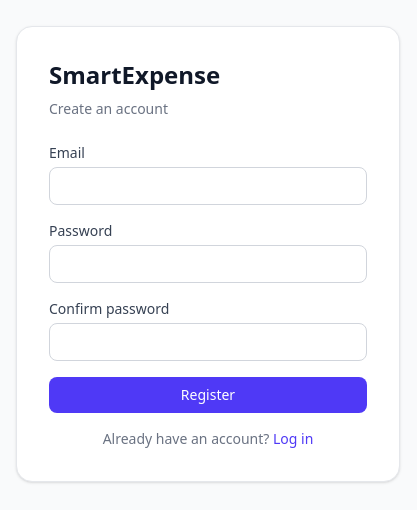
it: RegisterPage › shows a validation error when passwords do not match
The width and height of the screenshot is (417, 510).
Type "user@example.com" into the field labelled "Email" at (208,186), box 49,167 -> 367,205
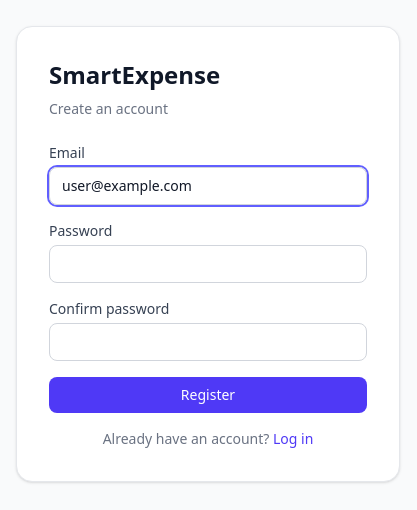
Type "password123" into the password field labelled "Password" at (208,264), box 49,245 -> 367,283
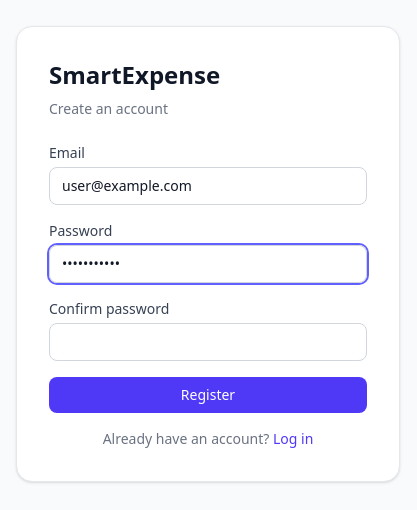
Type "different" into the password field labelled "Confirm password" at (208,342), box 49,323 -> 367,361
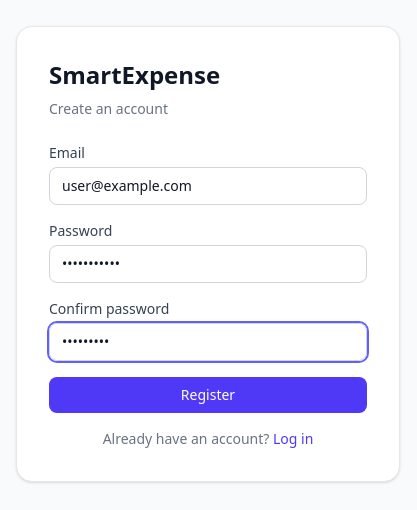
Click the button "Register" at (208,395), box 49,377 -> 367,413
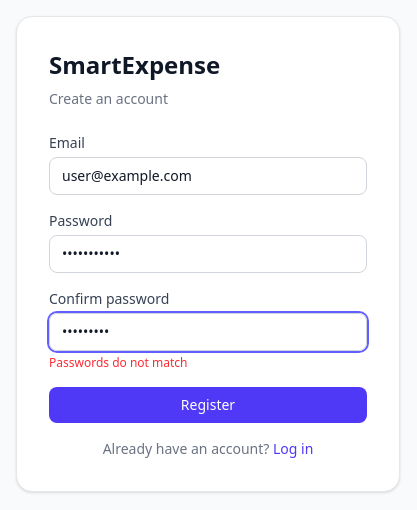
Expected: the text "Passwords do not match" is shown, 49,354 -> 188,371
